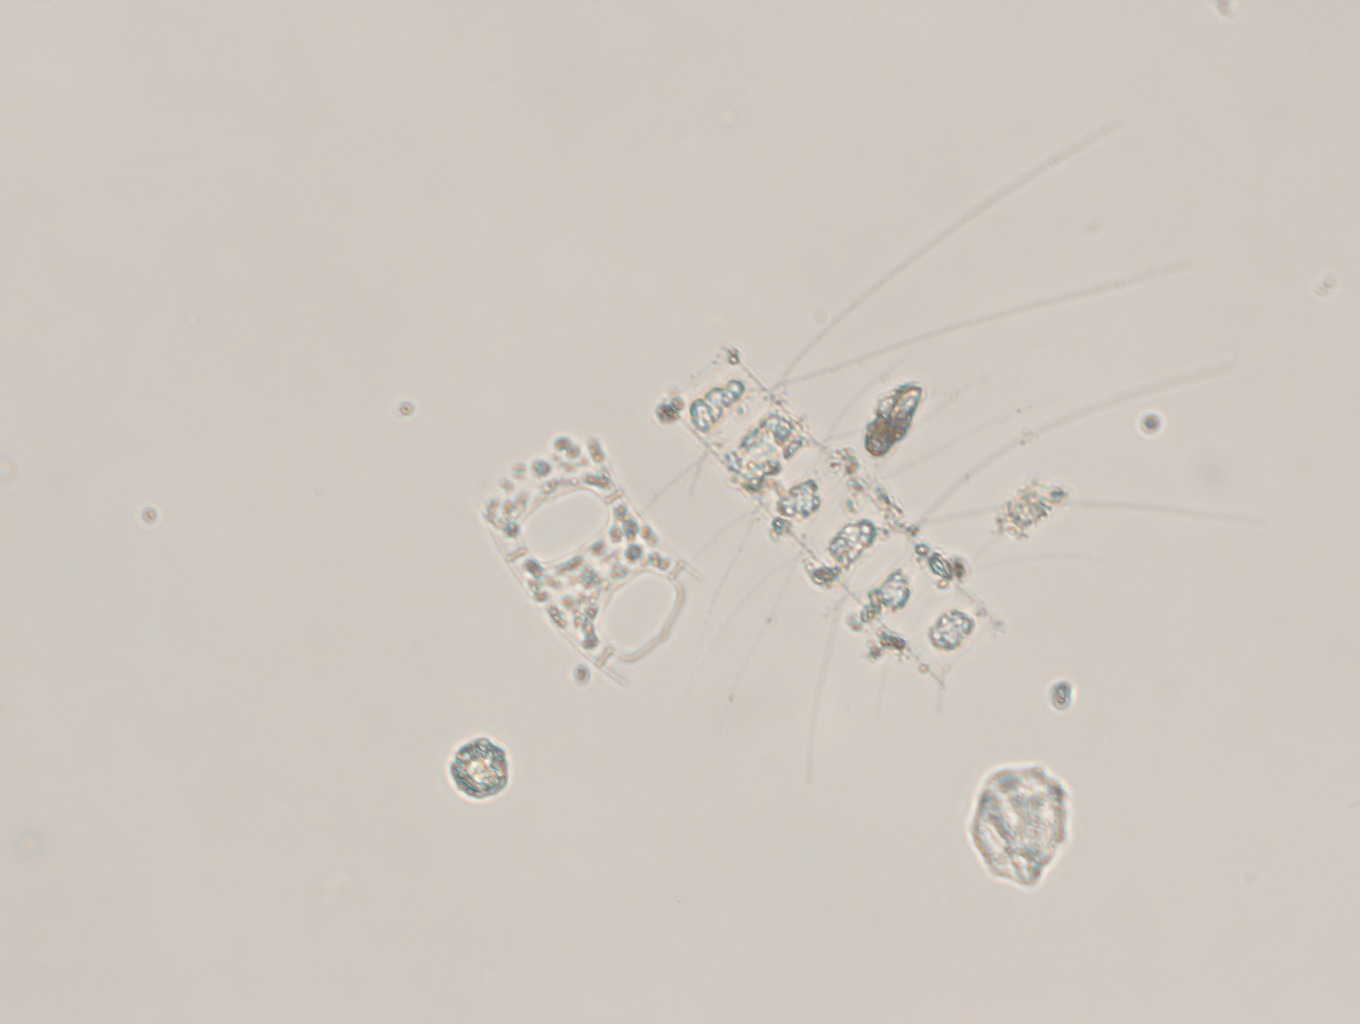chaetoceros: (595, 83, 1272, 784)
eucampia: (463, 433, 708, 707)
